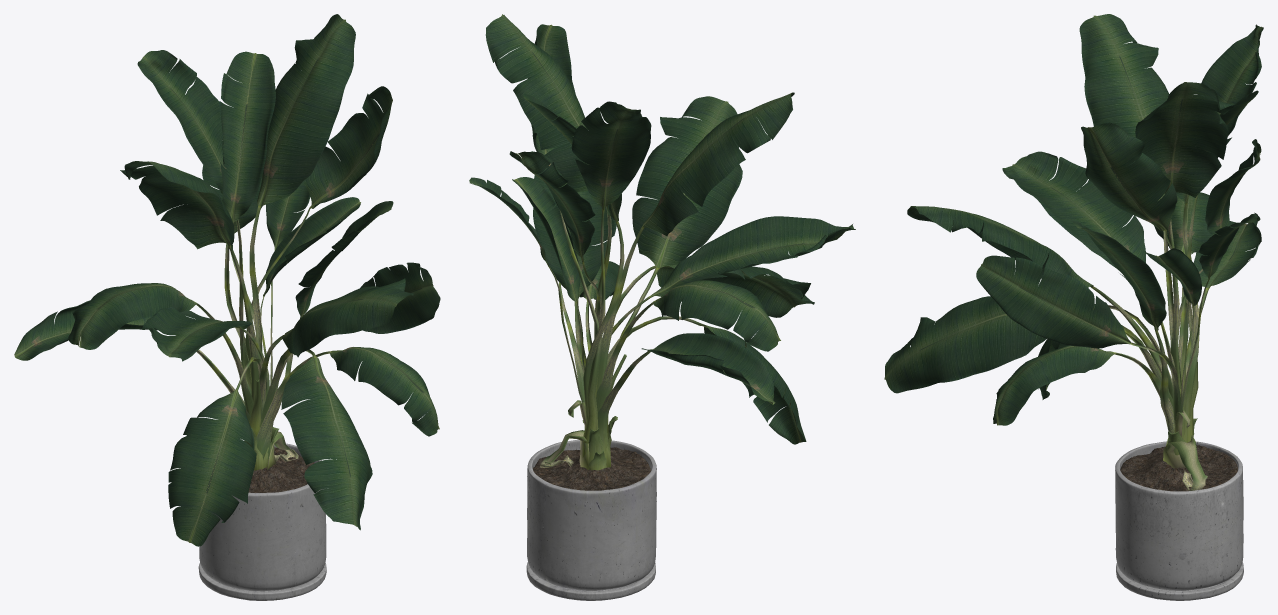
File: plant.glb
3 views of the same model, side by side, from view 1: azimuth 30°, elevation 25°; view 2: azimuth 150°, elevation 25°; view 3: azimuth 270°, elevation 25° (orthographic).
Visible parts, largest first — view 1: Strelizia nikolai.001; view 2: Strelizia nikolai.001; view 3: Strelizia nikolai.001.
Part boxes in pixels (x1,y1,x2,y2): Strelizia nikolai.001: (14, 14, 440, 600); Strelizia nikolai.001: (469, 14, 855, 600); Strelizia nikolai.001: (884, 14, 1263, 600).
Bounding box in the file's own units: 2.1 × 3.54 × 2.27.
9 materials, 9 textured.
